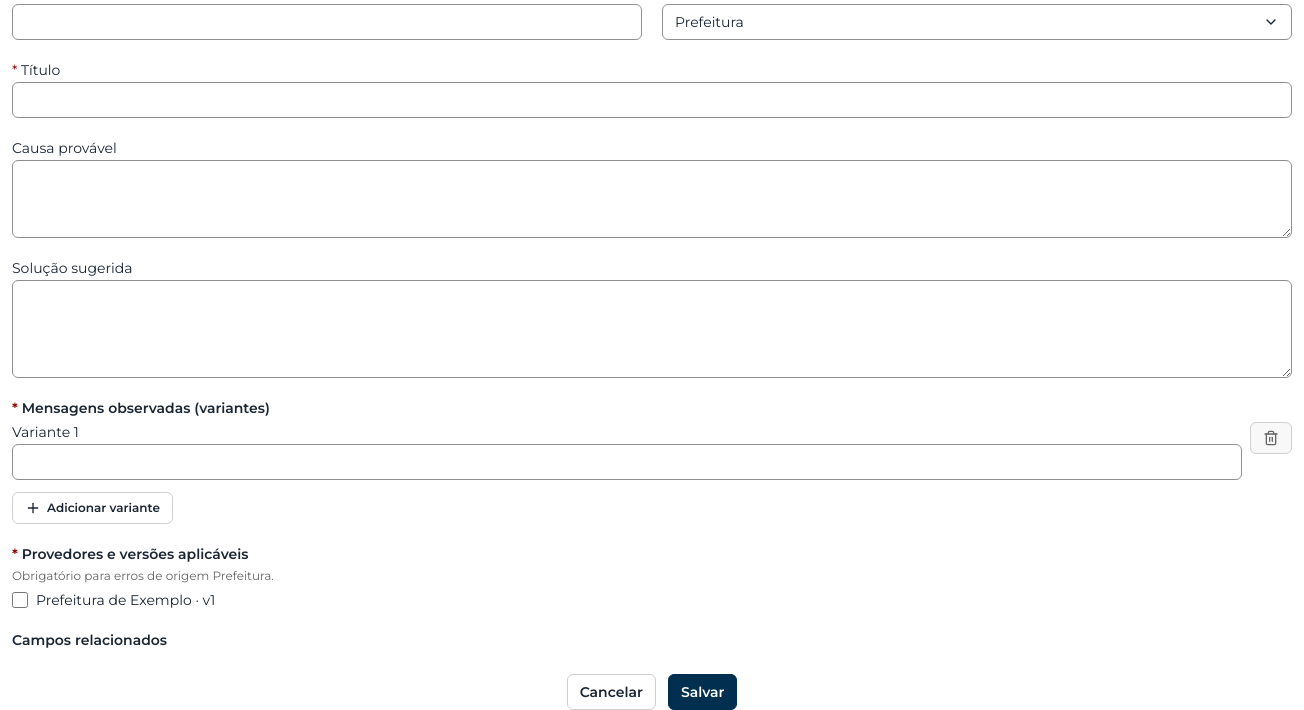
ErroForm › acusa erro em português quando os campos obrigatórios não são preenchidos
The image size is (1304, 710).
Click the button "Salvar".
click(703, 692)  # box x1=668 y1=674 x2=737 y2=709
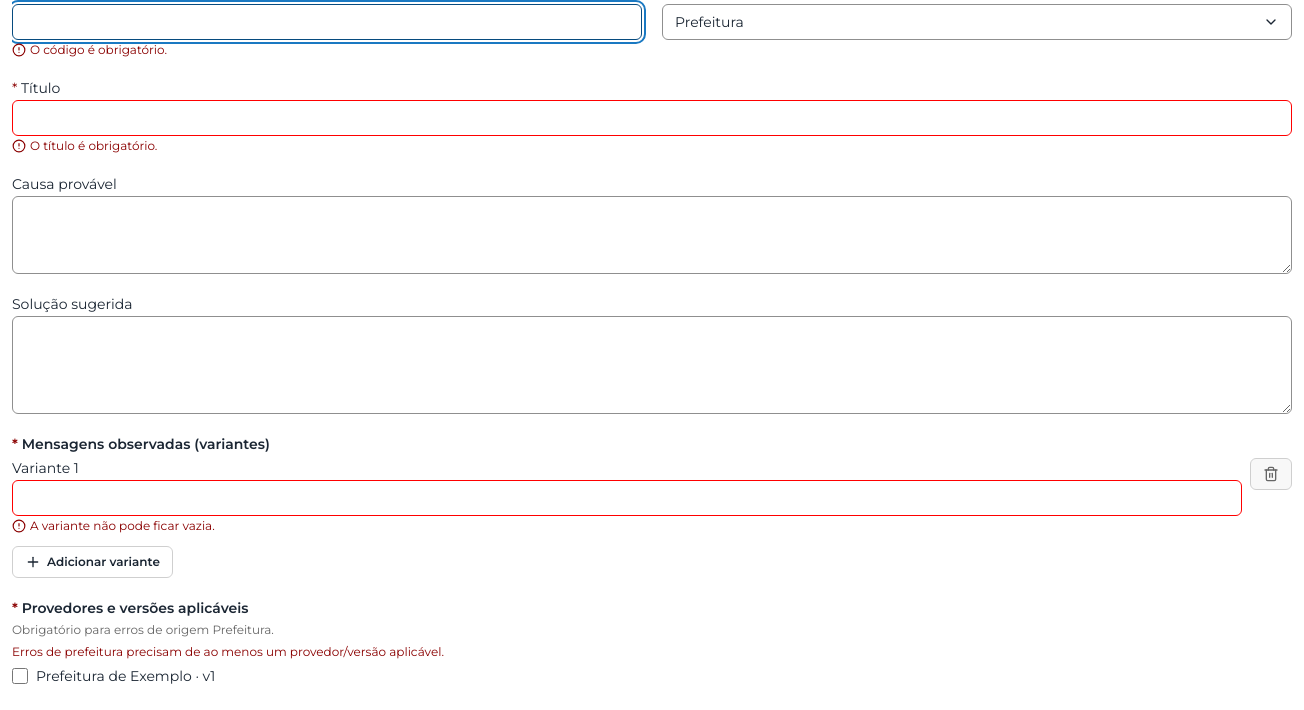
Expected: the text "O código é obrigatório." is shown, x1=12 y1=42 x2=167 y2=57
Expected: the text "O título é obrigatório." is shown, x1=12 y1=138 x2=157 y2=153
